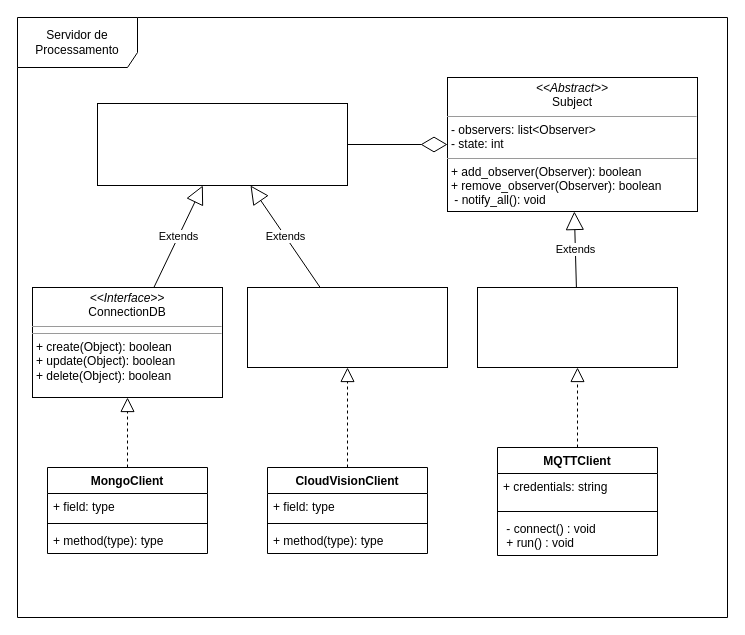
This 745x635 diagram has some shape labels left out. Here are the shapes that lost their labels. From the top down, the centre of each, then its label:
At pixel 222 144: "<<Interface>> Observer + update() : void".
At pixel 347 327: "<<Interface>> Identification + identify_image(bytes): string".
At pixel 577 327: "<<Interface>> MessageConsumer + method(type): type".
